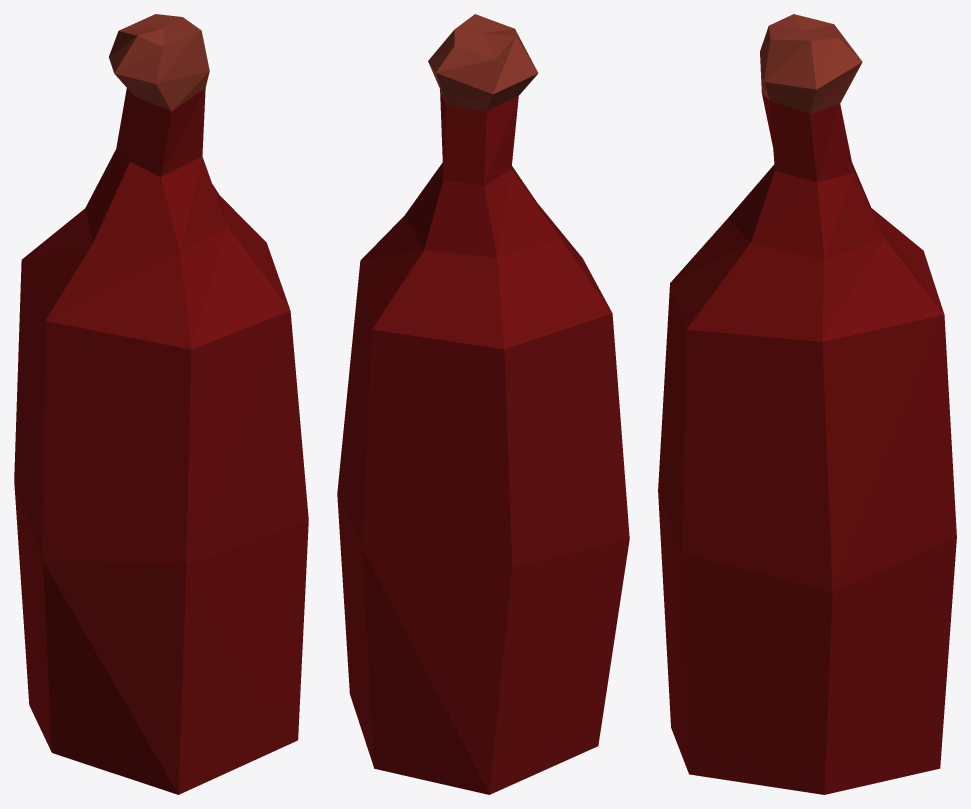
File: RG-Dungeon_Flask-07.fbx
3 views of the same model, side by side, from view 1: azimuth 30°, elevation 25°; view 2: azimuth 150°, elevation 25°; view 3: azimuth 270°, elevation 25° (orthographic). The views are drawn at different scales.
Parts seen in each view (by area): view 1: RG-Dungeon_Flask-07; view 2: RG-Dungeon_Flask-07; view 3: RG-Dungeon_Flask-07.
Part boxes in pixels (<box>): RG-Dungeon_Flask-07: <box>14,14,308,794</box>; RG-Dungeon_Flask-07: <box>337,14,629,794</box>; RG-Dungeon_Flask-07: <box>658,14,956,794</box>.
Size of the model in its own units: 1.22 by 3.12 by 1.17.
